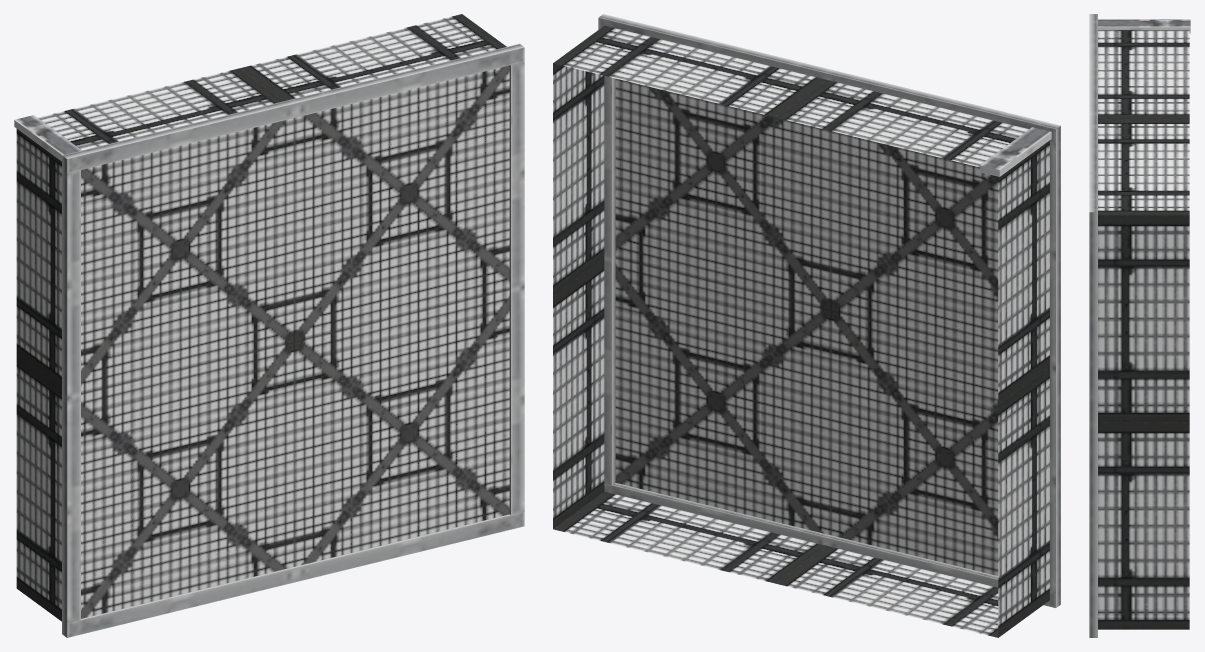
3 renders of one model, left to right at view 1: azimuth 30°, elevation 25°; view 2: azimuth 150°, elevation 25°; view 3: azimuth 270°, elevation 25°, orthographic. The views are drawn at different scales.
Parts seen in each view (by area): view 1: polySurface671; view 2: polySurface671; view 3: polySurface671.
Part boxes in pixels (x1=…): polySurface671: x1=14, y1=14, x2=524, y2=637; polySurface671: x1=553, y1=14, x2=1060, y2=637; polySurface671: x1=1089, y1=14, x2=1190, y2=637.
Bounding box in the file's own units: 4 × 4 × 0.8654.
Materials: 2 (2 with a texture image).
